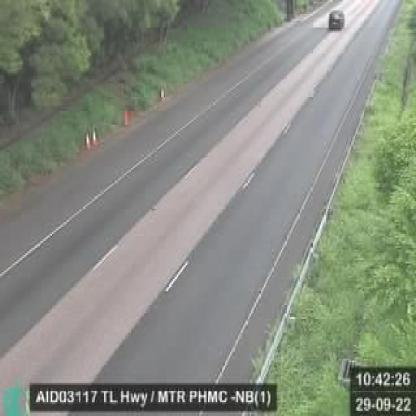Car: (324, 5, 344, 30)
